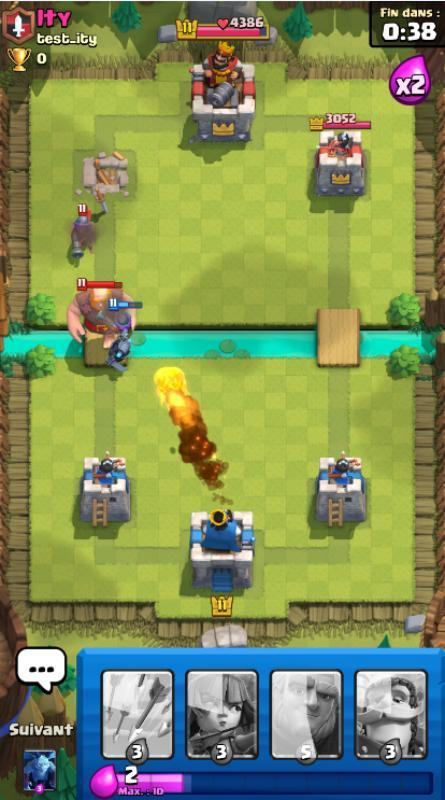geant: (65, 277, 137, 350)
mini_PEKKA: (105, 332, 132, 374)
mousquetaire: (96, 298, 142, 341), (70, 204, 95, 258)
